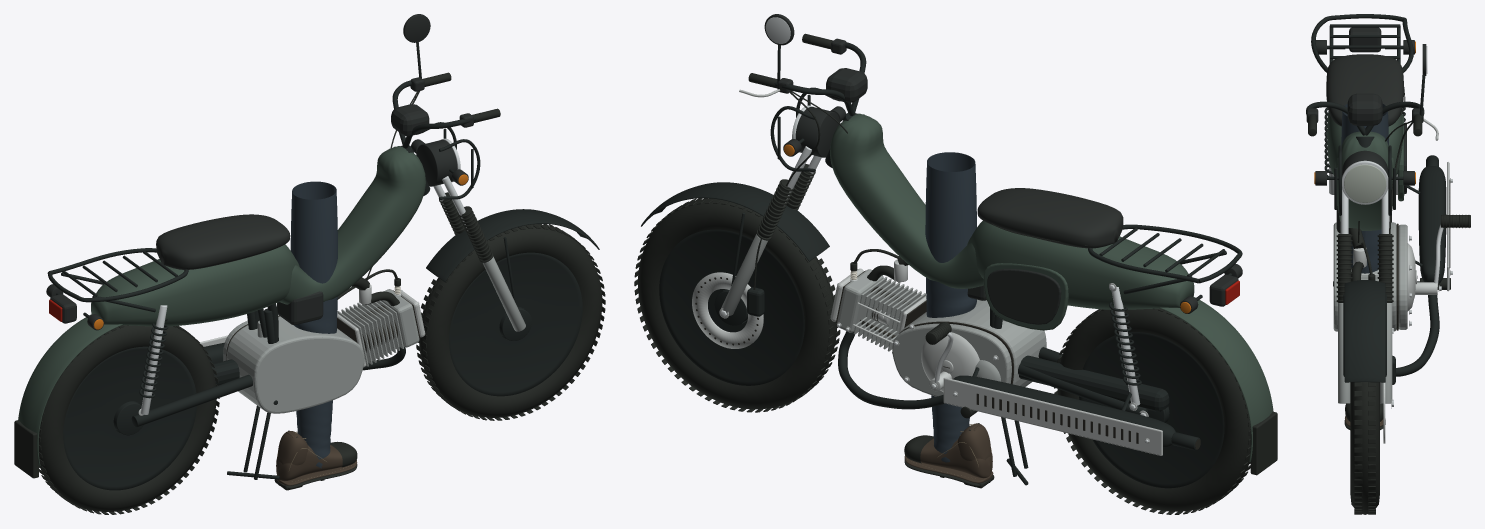
Rendered from cc110-rebuilt.glb.
3 views of the same model, side by side, from view 1: azimuth 30°, elevation 25°; view 2: azimuth 150°, elevation 25°; view 3: azimuth 270°, elevation 25° (orthographic). The views are drawn at different scales.
Visible parts, largest first — view 1: CC110_STATIC | Frame | black powder coated steel, CC110_STATIC | Rubber | charcoal, CC110_BODY | Cub | deep olive enamel, CC110_ENGINE | Engine | sand cast aluminum, CC110_TROUSER_MESH, CC110_BODY | Saddle | grain vinyl, CC110_STATIC | ABS | satin black, CC110_STATIC | Cub | deep olive enamel, CC110_CYLINDER | Engine | sand cast aluminum, CC110_BOOT | Boot | worn dark brown leather, CC110_STATIC | Hardware | zinc and polished steel, CC110_ENGINE | ABS | satin black (+2 smaller); view 2: CC110_STATIC | Frame | black powder coated steel, CC110_STATIC | Rubber | charcoal, CC110_BODY | Cub | deep olive enamel, CC110_STATIC | Engine | turned aluminum, CC110_TROUSER_MESH, CC110_BODY | Saddle | grain vinyl, CC110_ENGINE | Engine | sand cast aluminum, CC110_STATIC | ABS | satin black, CC110_STATIC | Cub | deep olive enamel, CC110_CYLINDER | Engine | sand cast aluminum, CC110_BODY | ABS | satin black, CC110_BOOT | Boot | worn dark brown leather (+6 smaller); view 3: CC110_STATIC | Frame | black powder coated steel, CC110_STATIC | Rubber | charcoal, CC110_BODY | Saddle | grain vinyl, CC110_BODY | Cub | deep olive enamel, CC110_STATIC | ABS | satin black, CC110_ENGINE | Engine | sand cast aluminum, CC110_STATIC | Engine | sand cast aluminum, CC110_STATIC | Headlight | fluted glass, CC110_STATIC | Hardware | zinc and polished steel, CC110_TROUSER_MESH, CC110_ENGINE | Frame | connected exhaust header, CC110_ENGINE | Engine | turned aluminum (+6 smaller).
Part boxes in pixels (x1,y1,x2,y2): CC110_STATIC | Frame | black powder coated steel: (47,80,599,490); CC110_STATIC | Rubber | charcoal: (14,72,605,514); CC110_BODY | Cub | deep olive enamel: (91,146,425,326); CC110_ENGINE | Engine | sand cast aluminum: (223,314,364,413); CC110_TROUSER_MESH: (290,181,337,468); CC110_BODY | Saddle | grain vinyl: (156,214,290,269); CC110_STATIC | ABS | satin black: (46,77,473,330); CC110_STATIC | Cub | deep olive enamel: (18,314,122,466); CC110_CYLINDER | Engine | sand cast aluminum: (337,289,419,366); CC110_BOOT | Boot | worn dark brown leather: (276,431,357,485); CC110_STATIC | Hardware | zinc and polished steel: (140,138,467,414); CC110_ENGINE | ABS | satin black: (277,291,323,324); CC110_STATIC | Frame | black powder coated steel: (641,42,1242,488); CC110_STATIC | Rubber | charcoal: (634,33,1277,514); CC110_BODY | Cub | deep olive enamel: (830,113,1194,330); CC110_STATIC | Engine | turned aluminum: (692,89,1162,455); CC110_TROUSER_MESH: (925,152,976,462); CC110_BODY | Saddle | grain vinyl: (977,188,1123,248); CC110_ENGINE | Engine | sand cast aluminum: (892,299,1046,396); CC110_STATIC | ABS | satin black: (777,38,1242,313); CC110_STATIC | Cub | deep olive enamel: (1159,296,1273,461); CC110_CYLINDER | Engine | sand cast aluminum: (837,269,926,352); CC110_BODY | ABS | satin black: (987,268,1061,324); CC110_BOOT | Boot | worn dark brown leather: (904,423,993,483); CC110_STATIC | Frame | black powder coated steel: (1306,14,1446,384); CC110_STATIC | Rubber | charcoal: (1308,114,1450,514); CC110_BODY | Saddle | grain vinyl: (1326,54,1403,126); CC110_BODY | Cub | deep olive enamel: (1327,111,1403,230); CC110_STATIC | ABS | satin black: (1306,27,1423,185); CC110_ENGINE | Engine | sand cast aluminum: (1333,222,1407,331); CC110_STATIC | Engine | sand cast aluminum: (1338,303,1392,403); CC110_STATIC | Headlight | fluted glass: (1344,164,1386,202); CC110_STATIC | Hardware | zinc and polished steel: (1329,87,1452,406); CC110_TROUSER_MESH: (1341,104,1388,273); CC110_ENGINE | Frame | connected exhaust header: (1396,295,1439,376); CC110_ENGINE | Engine | turned aluminum: (1353,235,1416,326).
Bounding box in the file's own units: 4.88 × 3.33 × 1.13.
